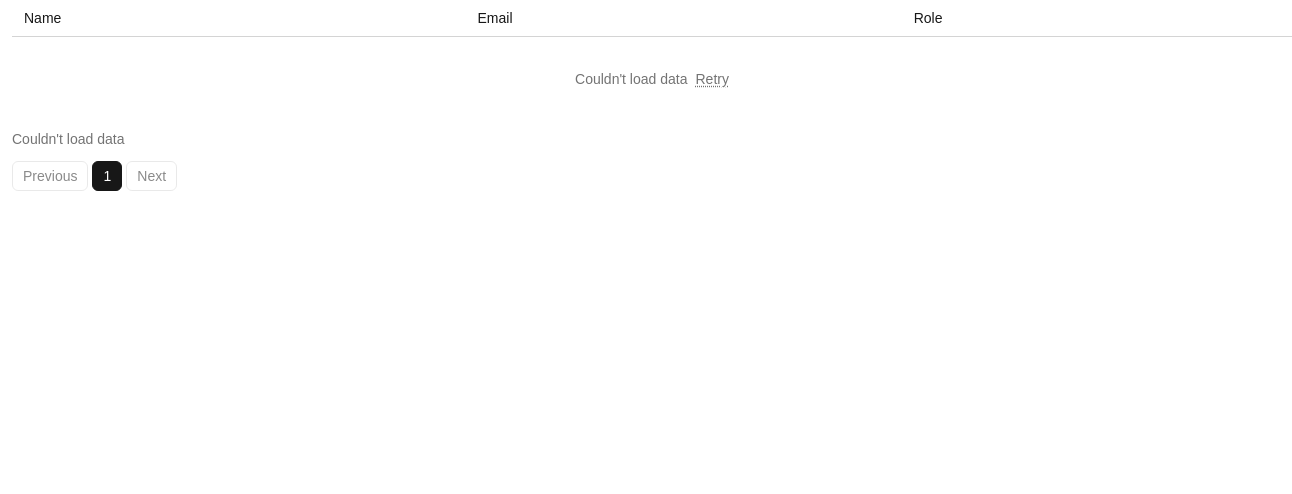
it: Table local mode › shows 'Couldn't load data' with a Retry that re-fetches after a rejected fetch
Check: the text "Couldn't load data" is shown, box x1=575 y1=71 x2=687 y2=87
Check: the message reads "Couldn't load data", box x1=12 y1=131 x2=124 y2=147
Step 1. Click the button "Retry" → (712, 79), box x1=696 y1=69 x2=729 y2=89
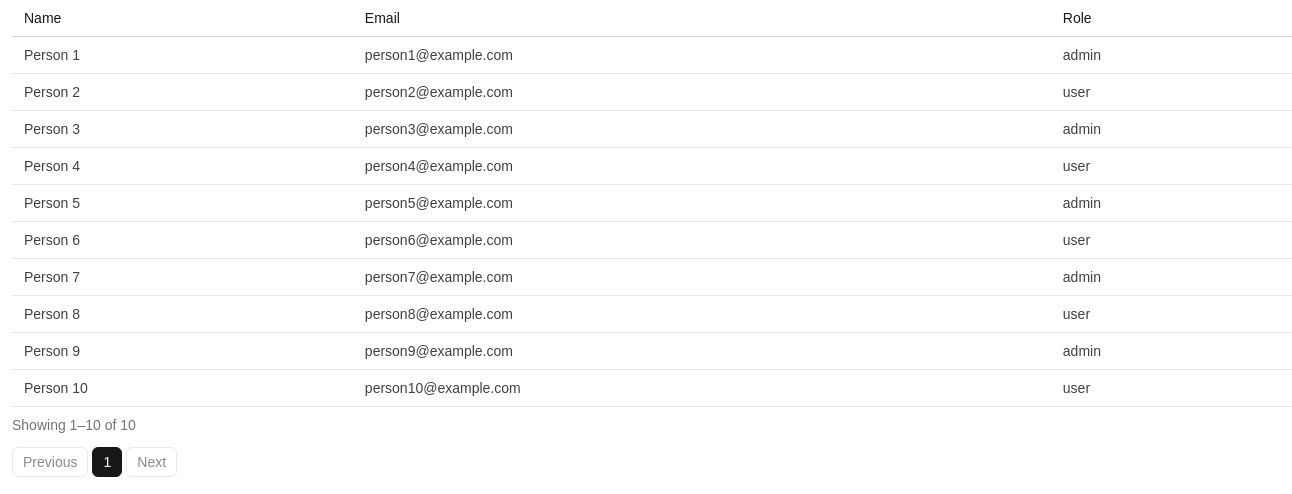
Check: the text "Person 1" is shown, box x1=12 y1=36 x2=353 y2=74
Check: the button "Retry" is gone
